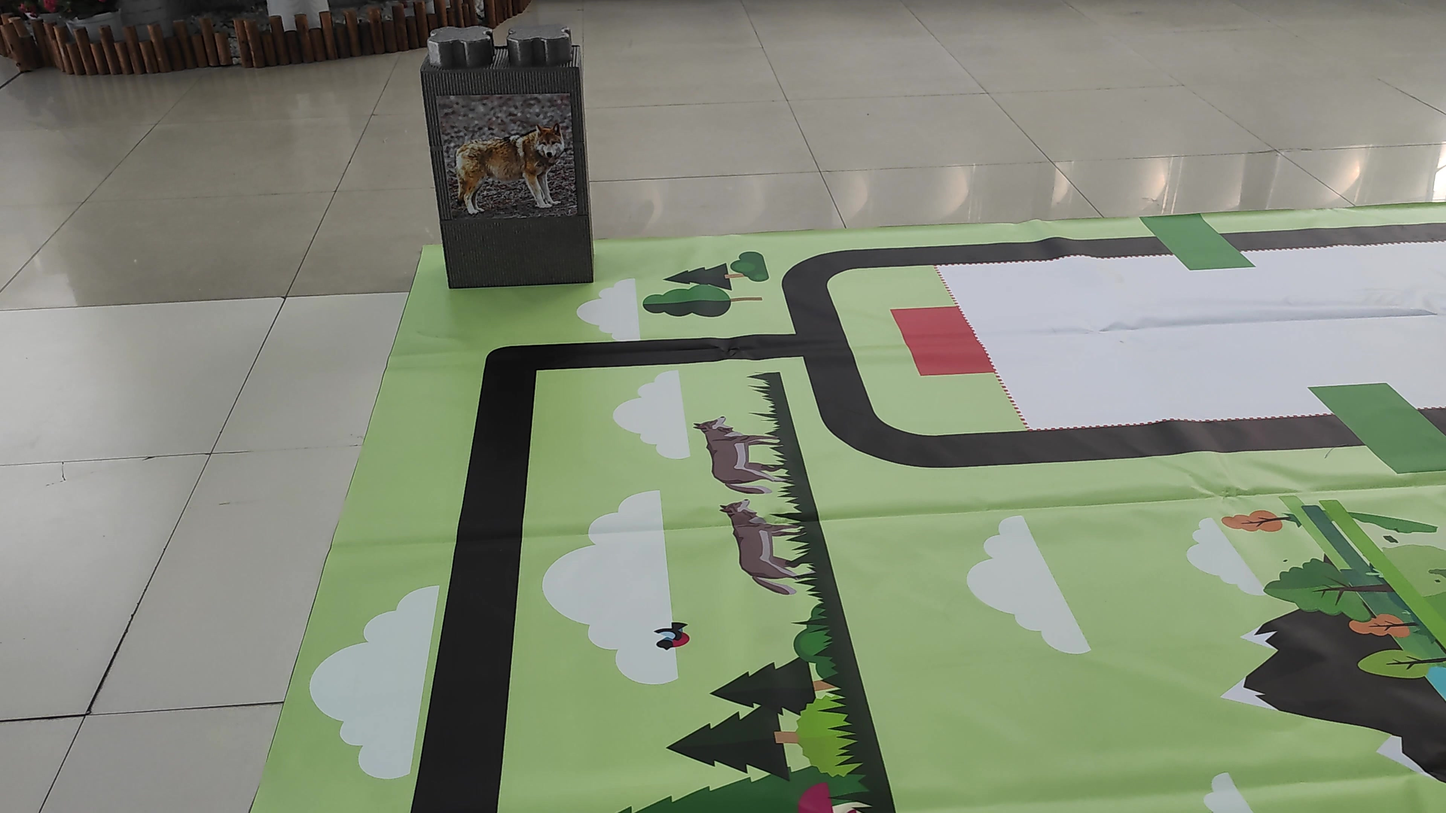wolf: (450, 107, 582, 227)
